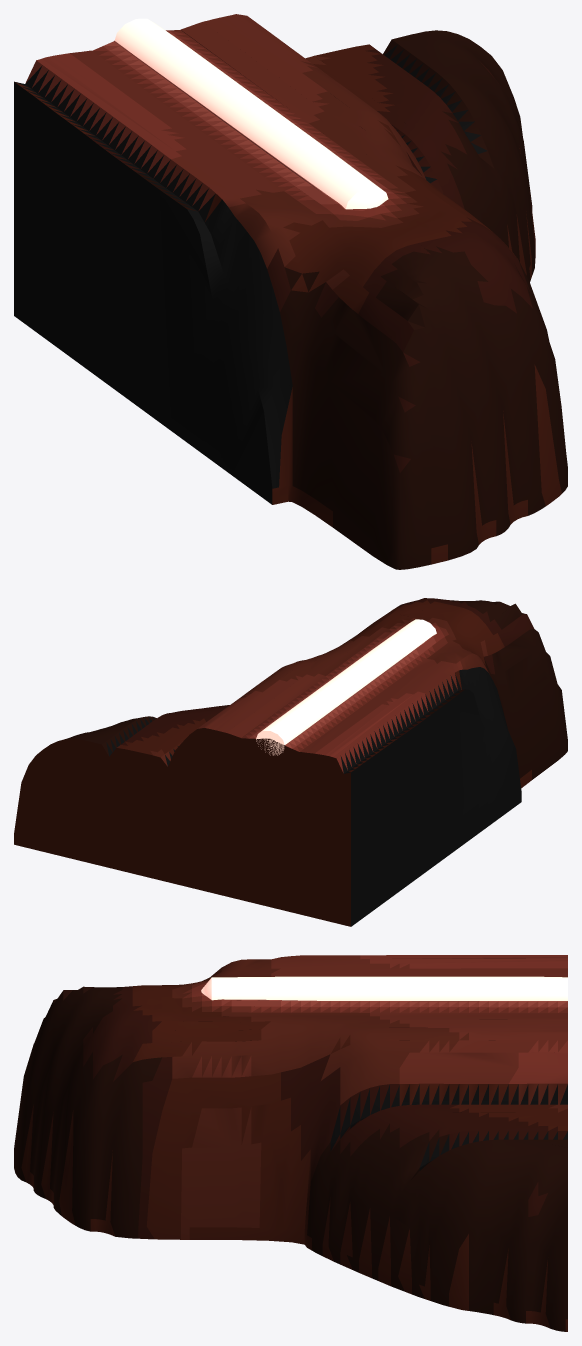
The model's file is savara_boss_274.glb.
3 views of the same model, one above another, from view 1: azimuth 30°, elevation 25°; view 2: azimuth 150°, elevation 25°; view 3: azimuth 270°, elevation 25° (orthographic). The views are drawn at different scales.
Visible parts, largest first — view 1: savara_boss_274_hull; view 2: savara_boss_274_hull; view 3: savara_boss_274_hull.
Boxes of the visible parts, x1=… form: savara_boss_274_hull: x1=14, y1=14, x2=567, y2=569; savara_boss_274_hull: x1=14, y1=598, x2=567, y2=926; savara_boss_274_hull: x1=14, y1=955, x2=567, y2=1331.
Bounding box in the file's own units: 23 × 11.53 × 28.
